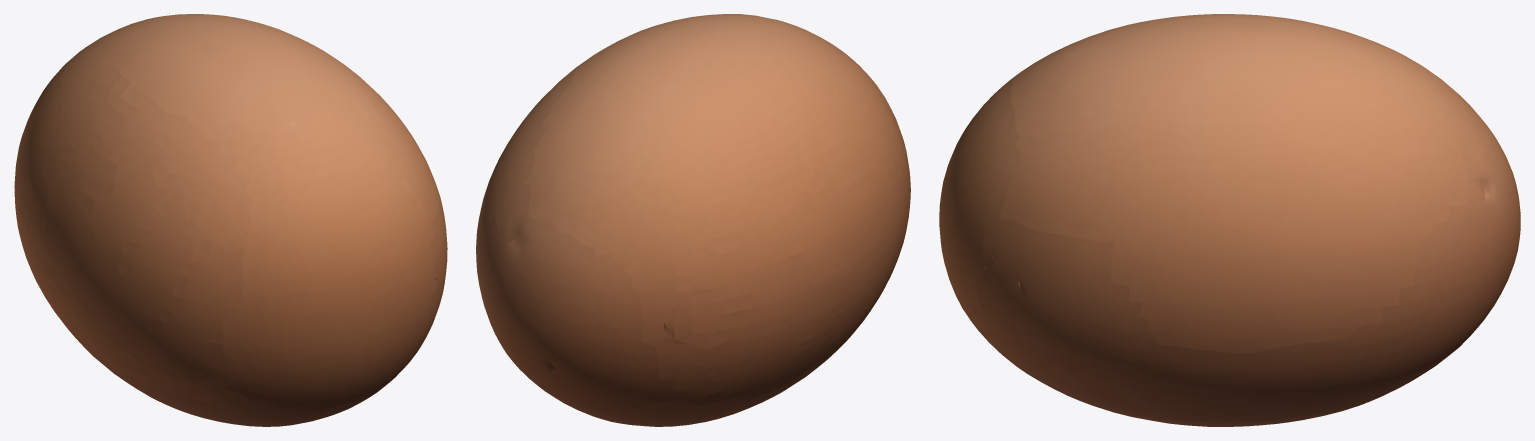
Rendered from egg.obj.
3 renders of one model, left to right at view 1: azimuth 30°, elevation 25°; view 2: azimuth 150°, elevation 25°; view 3: azimuth 270°, elevation 25°, orthographic. The views are drawn at different scales.
Size of the model in its own units: 0.0461 by 0.0462 by 0.0649.
1 material, 1 textured.
